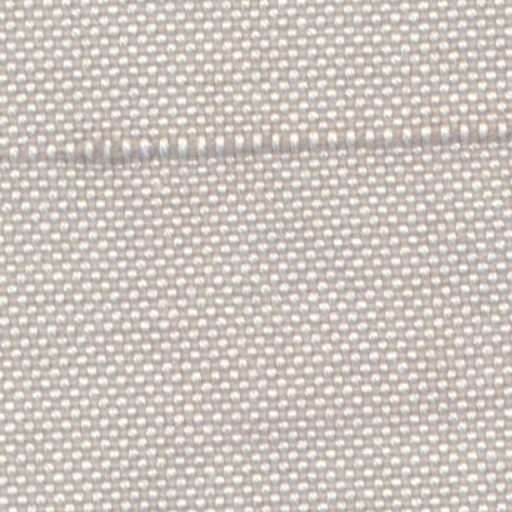DaiSha: (34, 115, 500, 172)
